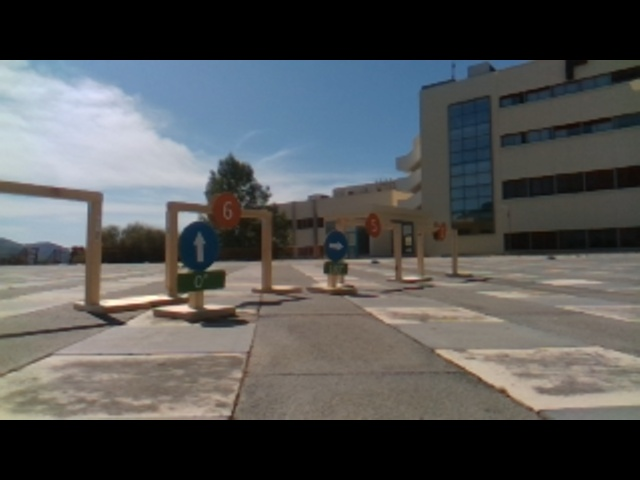0_degree: (176, 272, 230, 290)
180_degree: (321, 261, 351, 275)
arrow_right: (322, 230, 353, 261)
arrow_up: (178, 224, 220, 272)
checkpoint_foot: (74, 298, 151, 313), (253, 280, 302, 295), (140, 289, 183, 305)
checkpoint_side: (83, 186, 106, 305), (257, 205, 276, 288), (164, 197, 180, 295), (392, 221, 407, 280)
checkpoint_signal: (162, 197, 280, 218), (335, 214, 405, 232)
five: (363, 211, 384, 237)
six: (210, 192, 242, 227)
